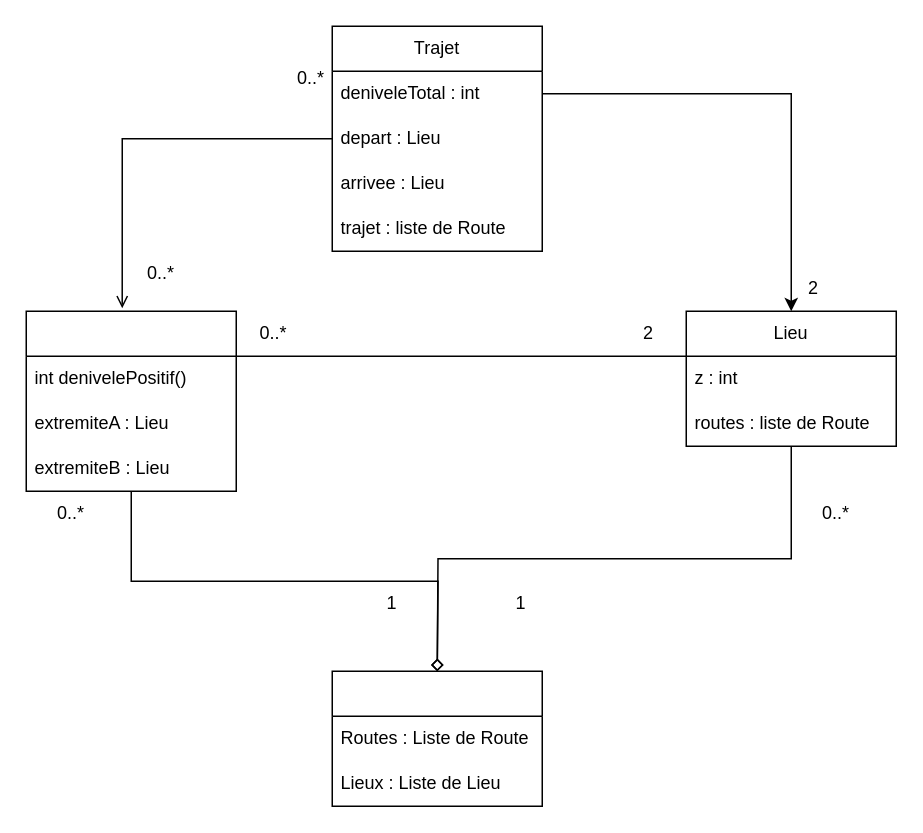
This 923x833 diagram has some shape labels left out. The shapes that lost their labels are listed below. From the top down, each one's box as (x1, y1, x2, y2) in pixels, then its label:
(25, 310, 236, 491): Route
(331, 670, 542, 806): ReseauRoutier
